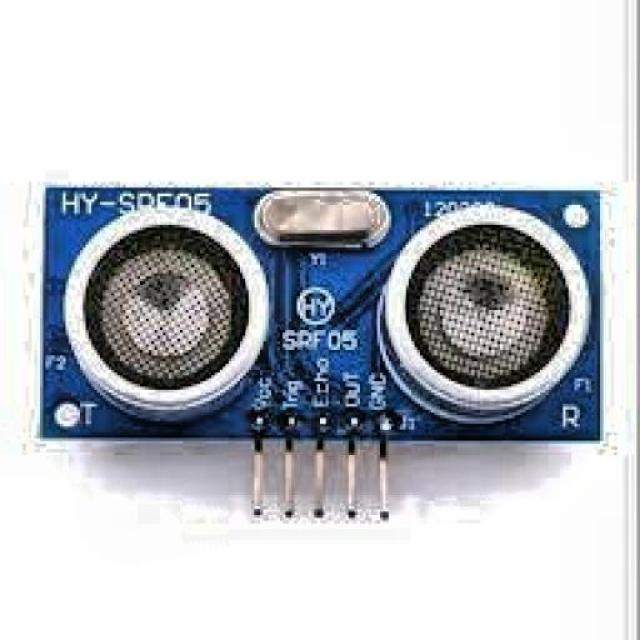Ultrasonic Sensor: (28, 175, 615, 525)
